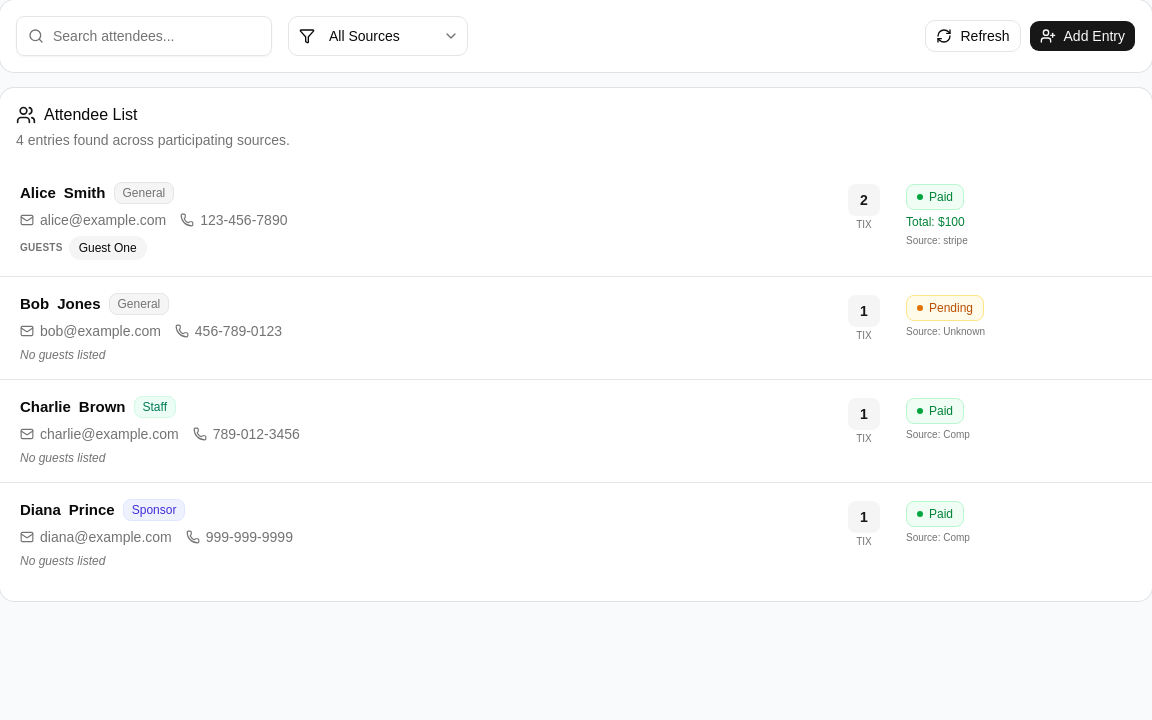
Test: TicketAttendeeTab - Sort and Filter › Sponsor Tickets filter: selects Sponsor Tickets option and displays only sponsor attendee
This screenshot has width=1152, height=720.
Click the dropdown named "Filter by source".
click(378, 36)  # box [288,16,468,56]
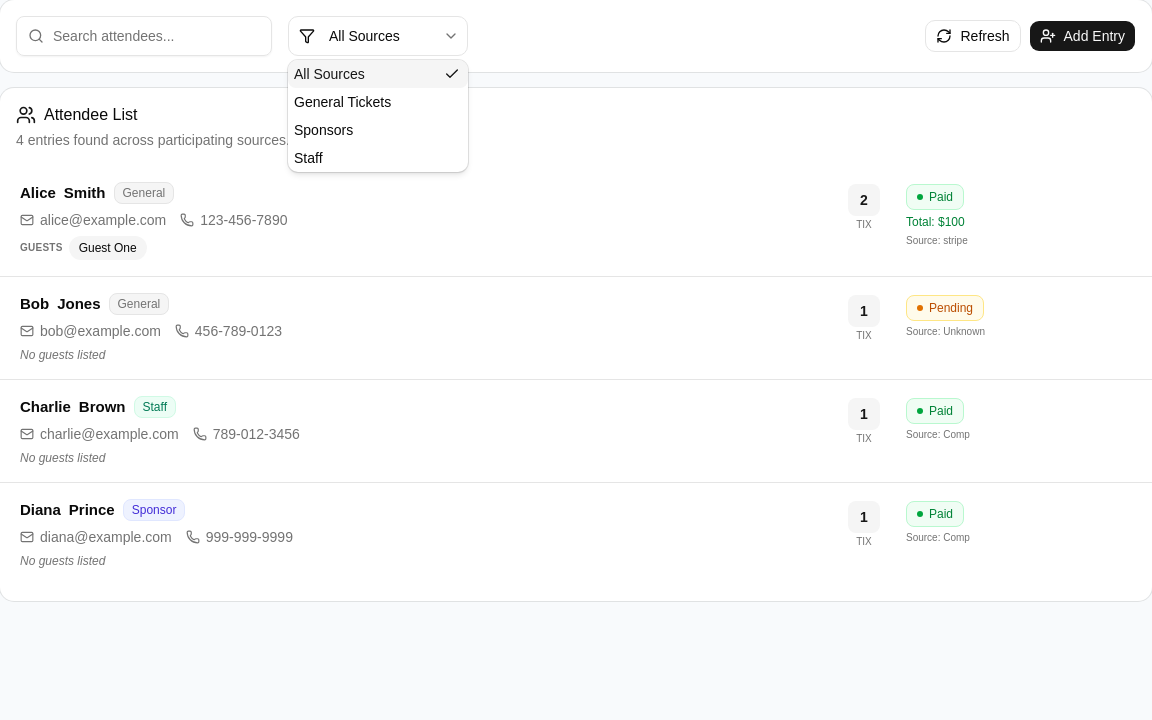
Click the option "Sponsors".
click(324, 130)  # box [294,122,353,138]
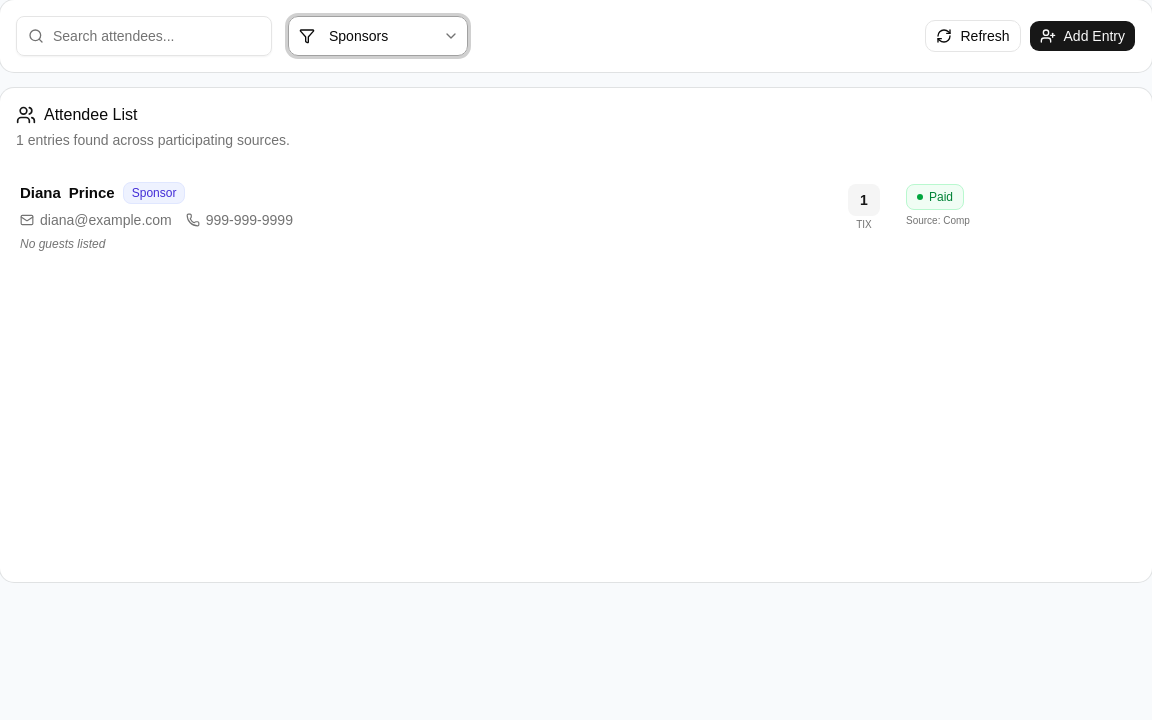
expect the text "Alice" is gone: met
expect the text "Bob" is gone: met
expect the text "Charlie" is gone: met
